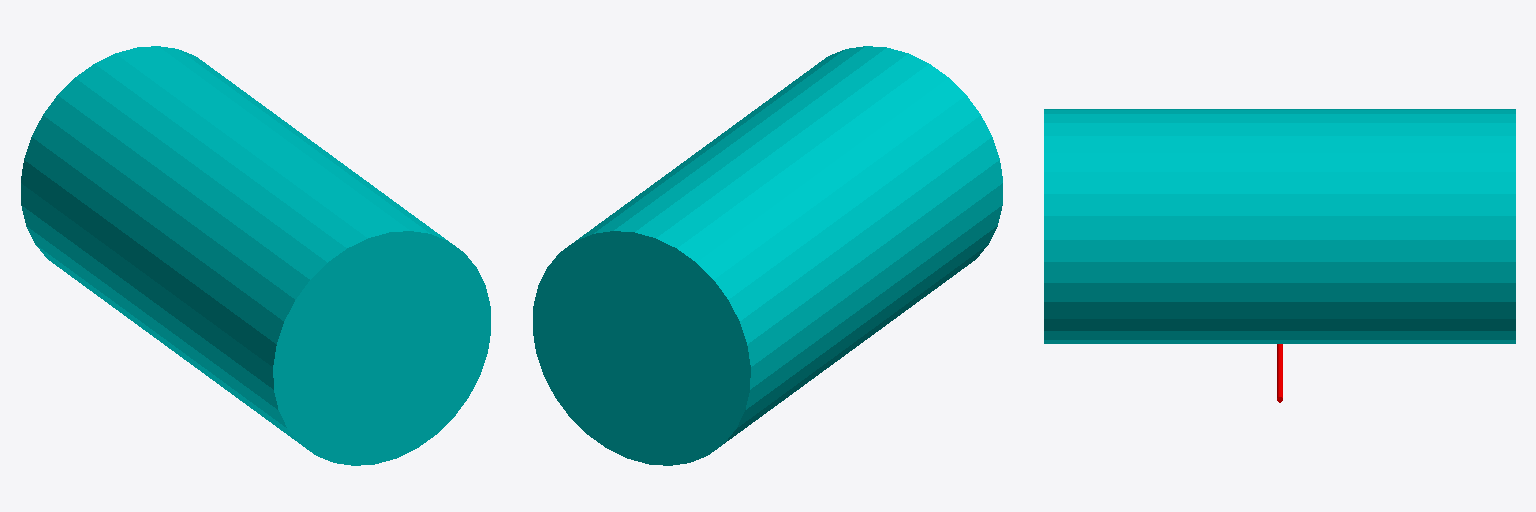
URDF robot description (cutting_target_a):
<?xml version="1.0"?>
<robot name="cutting_target_a">
  <!-- Link principal del cilindro de corte -->
  <link name="target_link">
    <inertial>
      <mass value="0.2"/>
      <origin xyz="0 0 0" rpy="0 0 0"/>
      <inertia ixx="0.0001" ixy="0.0" ixz="0.0" iyy="0.0001" iyz="0.0" izz="0.0001"/>
    </inertial>
    <visual>
      <!-- Cilindro echado horizontalmente a lo largo del eje Y local (roll = 90 deg, pitch = 105 deg (1.832595 rad) para rotar la textura ligeramente hacia arriba) -->
      <origin xyz="0 0 0" rpy="1.57079632679 1.832595 0"/>
      <geometry>
        <!-- Radio 1.5 cm (30 mm diametro), Altura 6 cm (60 mm de longitud) -->
        <cylinder radius="0.015" length="0.06"/>
      </geometry>
      <material name="target_material_a">
        <color rgba="0.0 0.8 0.8 1.0"/>
        <texture filename="package://arm_simulation/materials/textures/target_draw_A.png"/>
      </material>
    </visual>
    <collision>
      <origin xyz="0 0 0" rpy="1.57079632679 0 0"/>
      <geometry>
        <cylinder radius="0.015" length="0.06"/>
      </geometry>
    </collision>
  </link>
  <gazebo reference="target_link">
    <visual>
      <material>
        <script>
          <uri>model://arm_simulation/materials/scripts</uri>
          <uri>model://arm_simulation/materials/textures</uri>
          <name>CuttingTarget/Drawing_A</name>
        </script>
      </material>
    </visual>
  </gazebo>

  <!-- ==================== SISTEMA DE REFERENCIA: BASE ==================== -->
  <!-- Eje X (Rojo) de la Base -->
  <link name="target_base_x">
    <inertial>
      <mass value="0.0001"/>
      <origin xyz="0 0 0" rpy="0 0 0"/>
      <inertia ixx="1e-9" ixy="0" ixz="0" iyy="1e-9" iyz="0" izz="1e-9"/>
    </inertial>
    <visual>
      <origin xyz="0.01 0 0" rpy="0 1.57079632679 0"/>
      <geometry>
        <cylinder radius="0.0004" length="0.02"/>
      </geometry>
      <material name="base_red">
        <color rgba="1.0 0.0 0.0 0.8"/>
      </material>
    </visual>
  </link>
  <joint name="target_base_x_joint" type="fixed">
    <origin xyz="0 0 -0.015" rpy="0 0 0"/>
    <parent link="target_link"/>
    <child link="target_base_x"/>
  </joint>
  <gazebo reference="target_base_x">
    <material>Gazebo/Red</material>
  </gazebo>

  <!-- Eje Y (Verde) de la Base -->
  <link name="target_base_y">
    <inertial>
      <mass value="0.0001"/>
      <origin xyz="0 0 0" rpy="0 0 0"/>
      <inertia ixx="1e-9" ixy="0" ixz="0" iyy="1e-9" iyz="0" izz="1e-9"/>
    </inertial>
    <visual>
      <origin xyz="0 0.01 0" rpy="-1.57079632679 0 0"/>
      <geometry>
        <cylinder radius="0.0004" length="0.02"/>
      </geometry>
      <material name="base_green">
        <color rgba="0.0 1.0 0.0 0.8"/>
      </material>
    </visual>
  </link>
  <joint name="target_base_y_joint" type="fixed">
    <origin xyz="0 0 -0.015" rpy="0 0 0"/>
    <parent link="target_link"/>
    <child link="target_base_y"/>
  </joint>
  <gazebo reference="target_base_y">
    <material>Gazebo/Green</material>
  </gazebo>

  <!-- Eje Z (Azul) de la Base -->
  <link name="target_base_z">
    <inertial>
      <mass value="0.0001"/>
      <origin xyz="0 0 0" rpy="0 0 0"/>
      <inertia ixx="1e-9" ixy="0" ixz="0" iyy="1e-9" iyz="0" izz="1e-9"/>
    </inertial>
    <visual>
      <origin xyz="0 0 0.01" rpy="0 0 0"/>
      <geometry>
        <cylinder radius="0.0004" length="0.02"/>
      </geometry>
      <material name="base_blue">
        <color rgba="0.0 0.0 1.0 0.8"/>
      </material>
    </visual>
  </link>
  <joint name="target_base_z_joint" type="fixed">
    <origin xyz="0 0 -0.015" rpy="0 0 0"/>
    <parent link="target_link"/>
    <child link="target_base_z"/>
  </joint>
  <gazebo reference="target_base_z">
    <material>Gazebo/Blue</material>
  </gazebo>

  <!-- Hacer el objeto estático en Gazebo -->
  <gazebo>
    <static>true</static>
  </gazebo>
</robot>

--- What the picture shows (computed from the rendered views, not written in the file) ---
Views: 3 orthographic renders of the robot side by side, from view 1: azimuth 30°, elevation 25°; view 2: azimuth 150°, elevation 25°; view 3: azimuth 270°, elevation 25°.
Robot: cutting_target_a — 4 links, 3 joints (3 fixed); root link target_link; default pose: every joint at zero.
Visible links, largest first — view 1: target_link; view 2: target_link; view 3: target_link.
Link boxes in pixels (x1,y1,x2,y2): target_link: (21,46,490,465); target_link: (533,46,1002,465); target_link: (1044,109,1515,343).
Size in the robot's own frame: 0.035 by 0.06 by 0.0304 metres.
Geometry: primitives only (box / cylinder / sphere), no mesh files.
